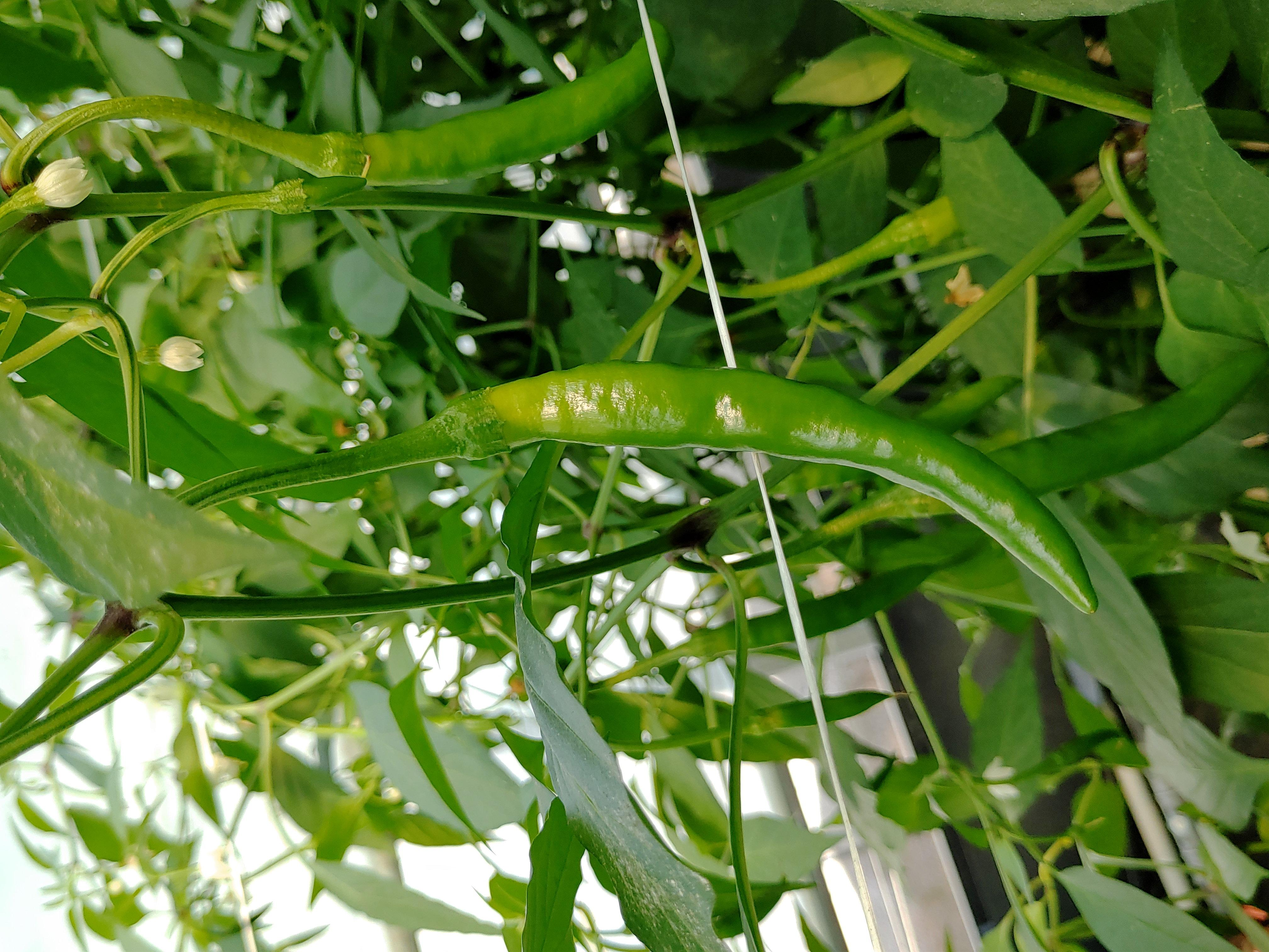Buah Cabai Sehat: (452, 355, 1100, 620), (293, 15, 674, 192)
